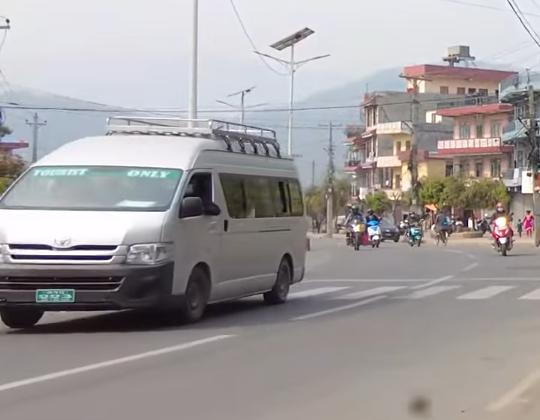micro_bus: (0, 103, 313, 336)
scooter: (487, 214, 517, 258), (365, 216, 382, 249)
